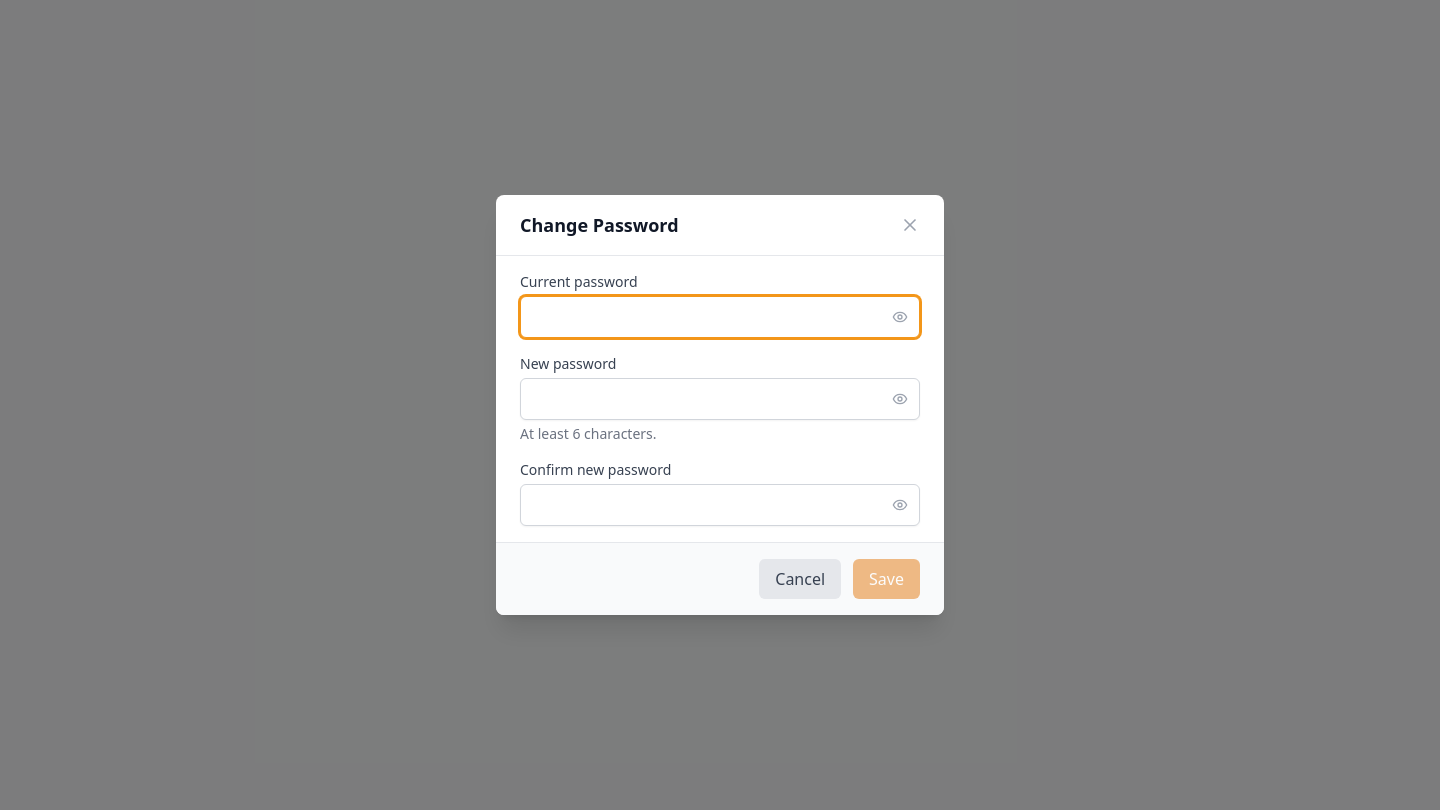
Test: ChangePasswordModal › shows a wrong current password inline, stays open and keeps what was typed
In the password field labelled "Current password": [720, 317] box [520,296,920,338], type "old-pass"
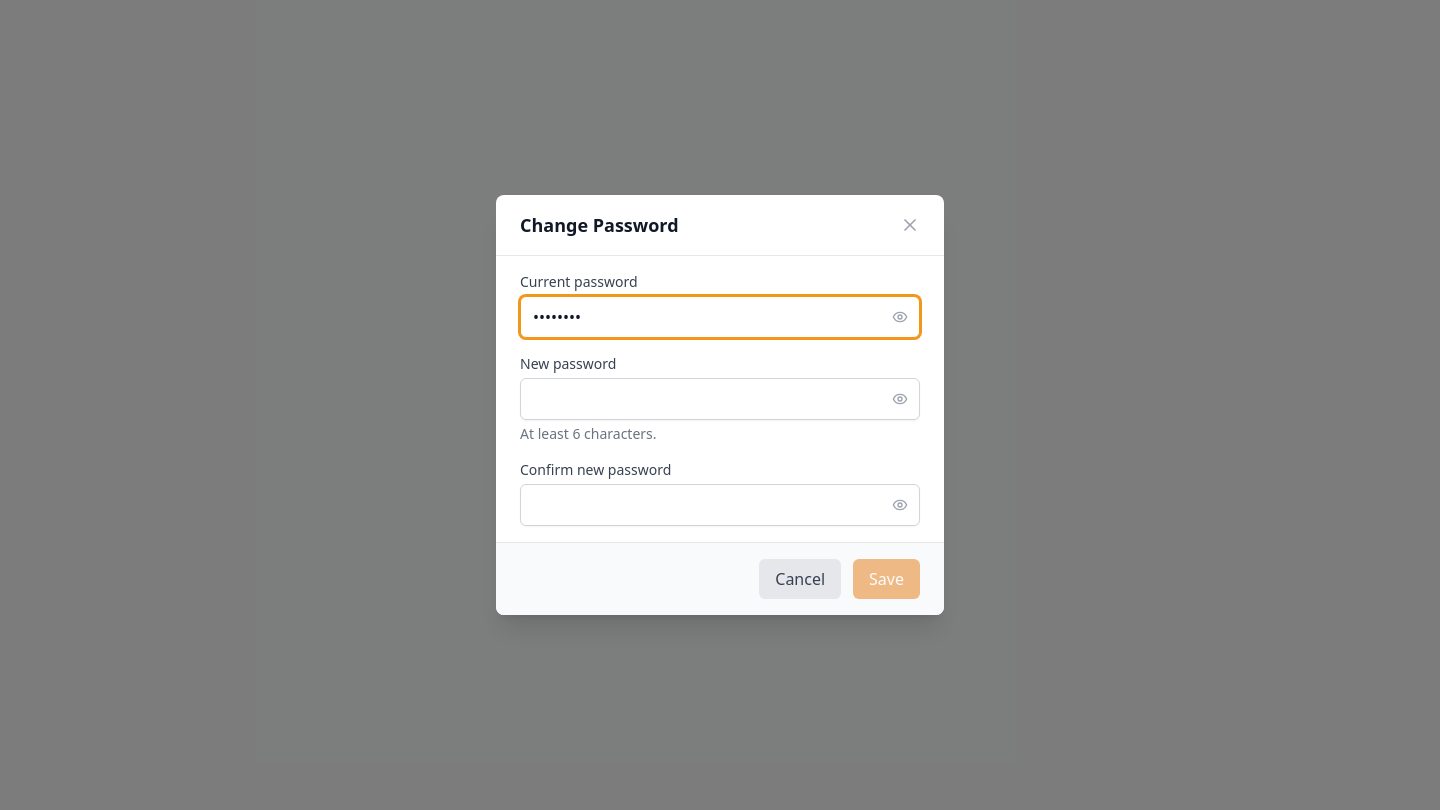
In the password field labelled "New password": [720, 399] box [520,378,920,420], type "new-pass"
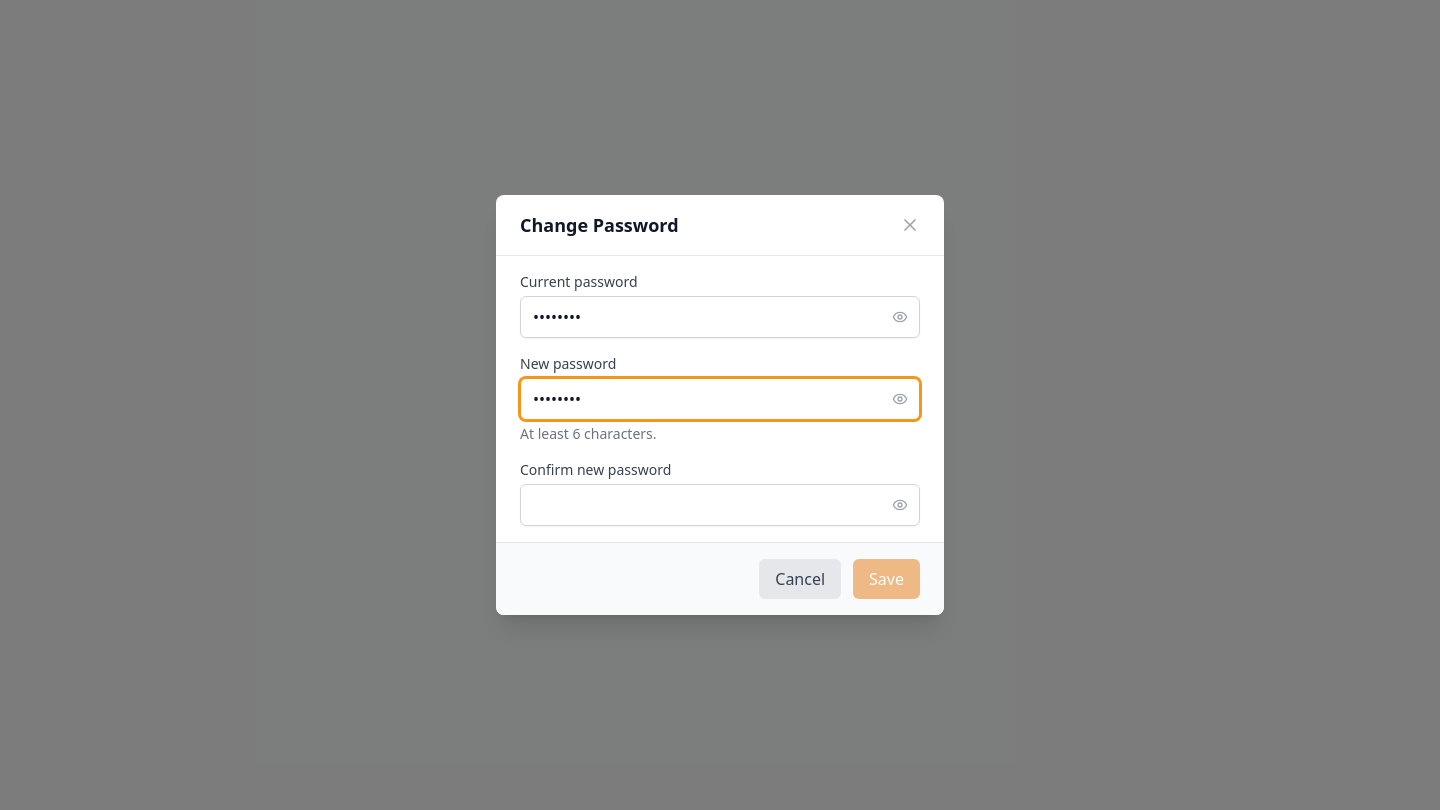
In the password field labelled "Confirm new password": [720, 505] box [520,484,920,526], type "new-pass"
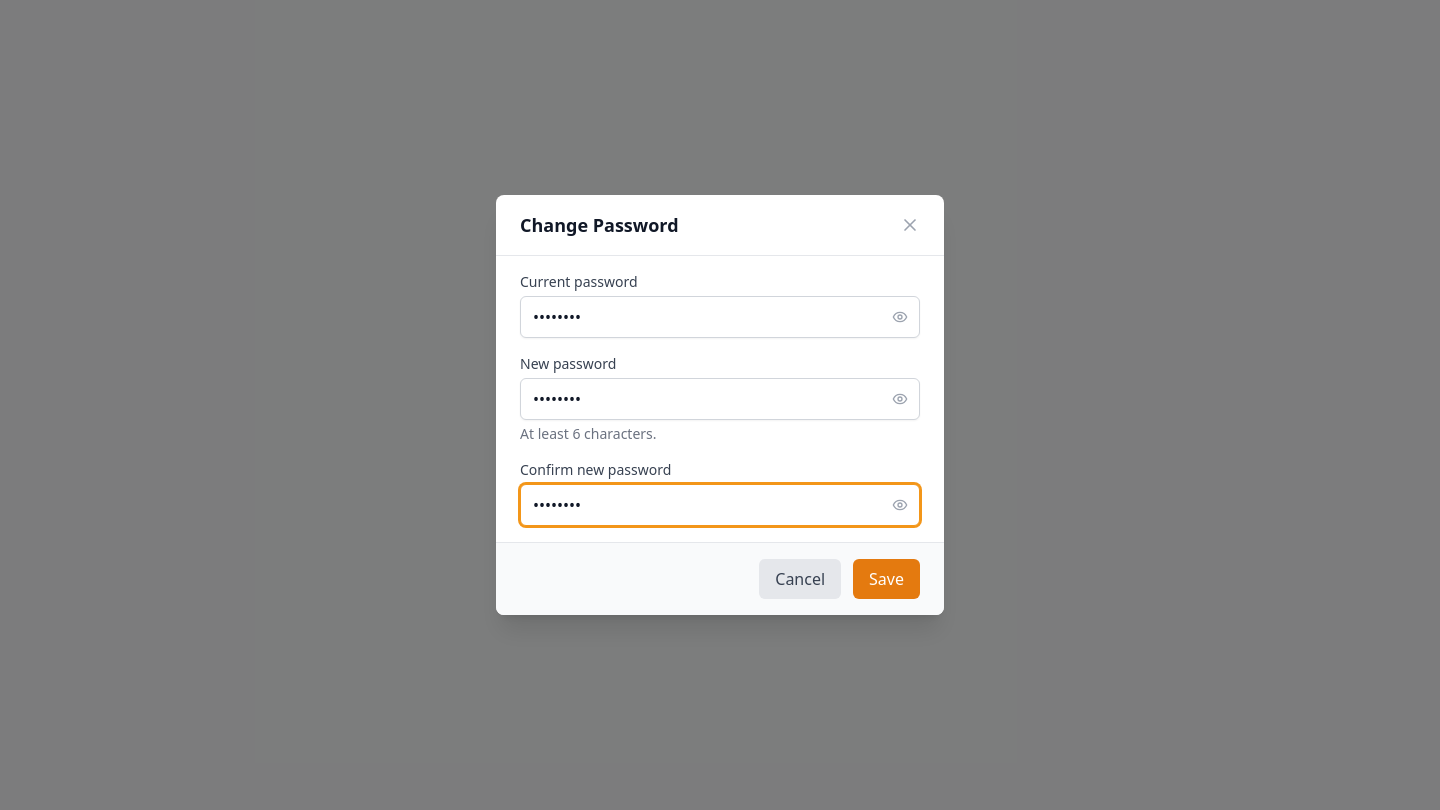
Click the button "Save": [887, 579] box [853,559,920,599]
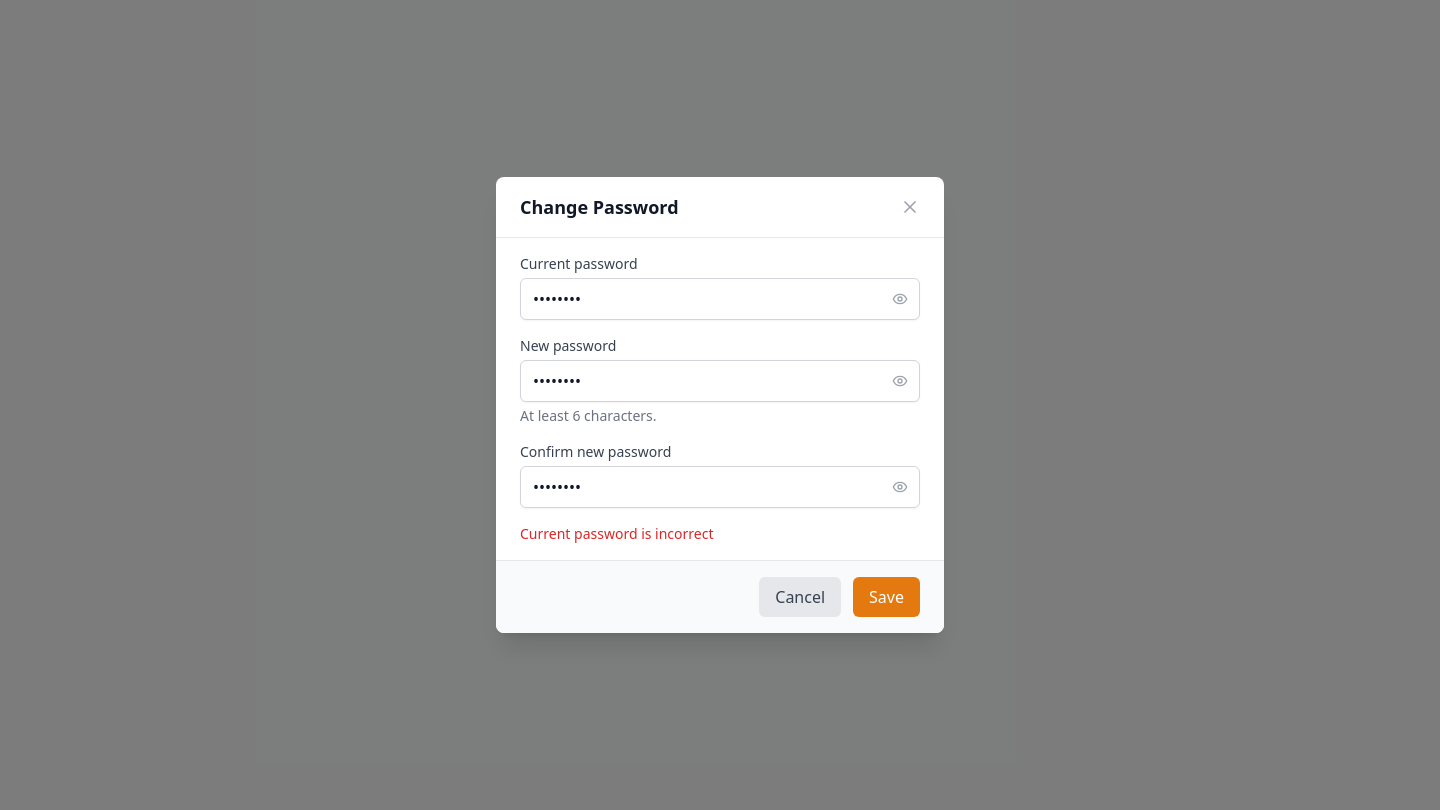
Expected: the button "Save" is enabled, [853,577,920,617]
Expected: the message reads "Current password is incorrect", [520,524,714,543]
